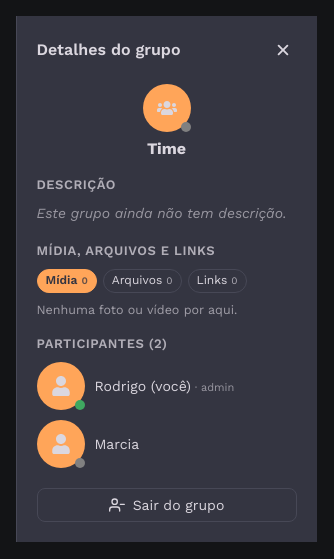
ChatDetails · perfil do membro › abre o perfil do membro ao clicar no nome
The width and height of the screenshot is (334, 559).
What coordinates should you click on to do the following:
click the button named "Ver detalhes de Marcia"
I would click on:
 (196, 444)
Its box is [94,436,296,452].
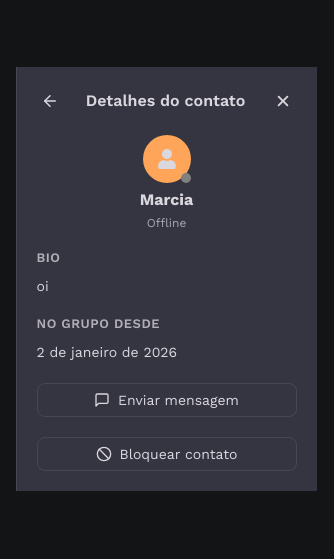
Now the text "oi" is shown, box [36,278,49,294]
Now the heading "No grupo desde" is shown, box [36,316,160,331]
